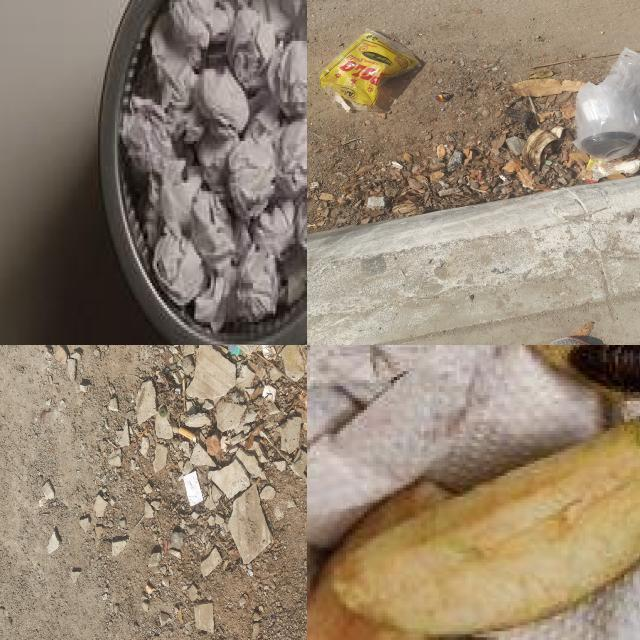Background: (307, 0, 640, 345), (0, 345, 307, 640)
Cig_bud: (178, 427, 204, 443)
Garbage: (307, 345, 640, 640)
Paper: (121, 0, 307, 334)
Plastic: (227, 345, 242, 358)
Plastic_Bag: (320, 30, 419, 113), (575, 48, 640, 160)
Plastic_wraper: (581, 158, 617, 184), (433, 92, 453, 102)
top_view_waste: (116, 0, 307, 329)
